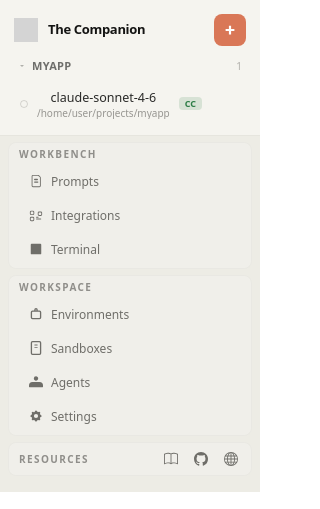
Sidebar › double-clicking a session enters edit mode
Double-click the button "claude-sonnet-4-6" at point(130, 104), box [10, 80, 250, 127]
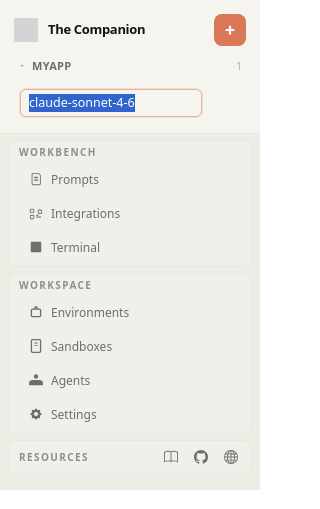
expect the field showing "claude-sonnet-4-6" is shown: met, box [20, 88, 202, 117]
